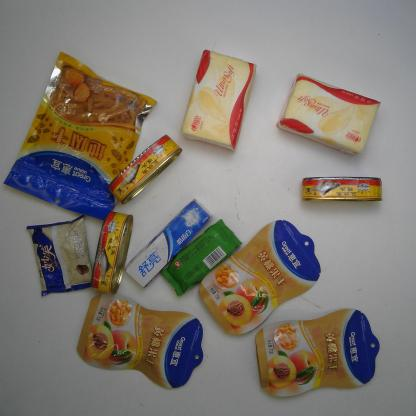Canned Food: (107, 132, 182, 206), (89, 210, 134, 296), (300, 175, 384, 202)
Dessert: (160, 217, 242, 298), (24, 213, 96, 297)
Dried Fruit: (2, 51, 157, 222), (198, 219, 323, 338), (76, 290, 204, 390), (254, 308, 380, 398)
Personal Hygiene: (124, 198, 214, 290)
Tissue: (276, 72, 381, 157), (180, 47, 259, 153)
